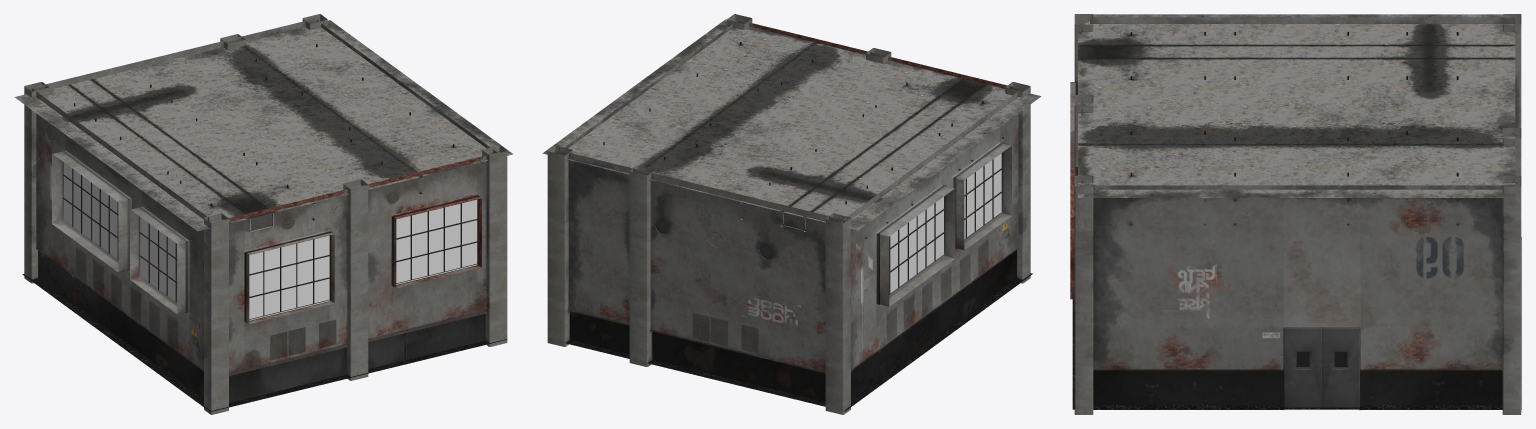
The model's file is env.glb.
3 views of the same model, side by side, from view 1: azimuth 30°, elevation 25°; view 2: azimuth 150°, elevation 25°; view 3: azimuth 270°, elevation 25° (orthographic). The views are drawn at different scales.
Parts seen in each view (by area): view 1: Env; view 2: Env; view 3: Env.
Boxes of the visible parts, x1=… form: Env: x1=14, y1=14, x2=513, y2=414; Env: x1=542, y1=14, x2=1041, y2=414; Env: x1=1070, y1=14, x2=1521, y2=414.
Bounding box in the file's own units: 14.85 × 8.62 × 15.41.
9 materials, 8 textured.
